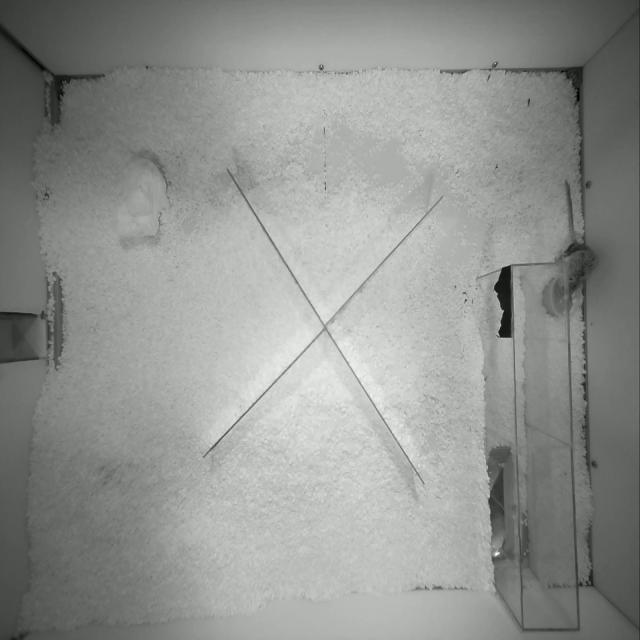adult_back: (559, 181, 597, 294)
